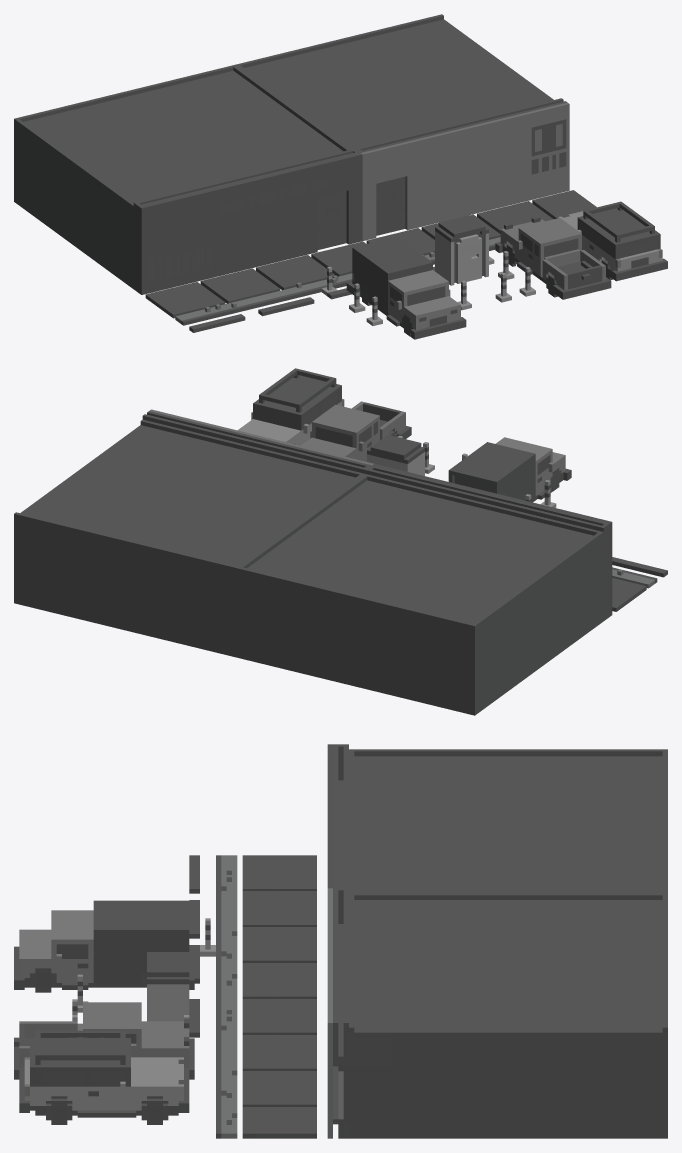
Rendered from scene_church1.obj.
3 views of the same model, one above another, from view 1: azimuth 30°, elevation 25°; view 2: azimuth 150°, elevation 25°; view 3: azimuth 270°, elevation 25° (orthographic). The views are drawn at different scales.
Size of the model in its own units: 124 by 24 by 123.
